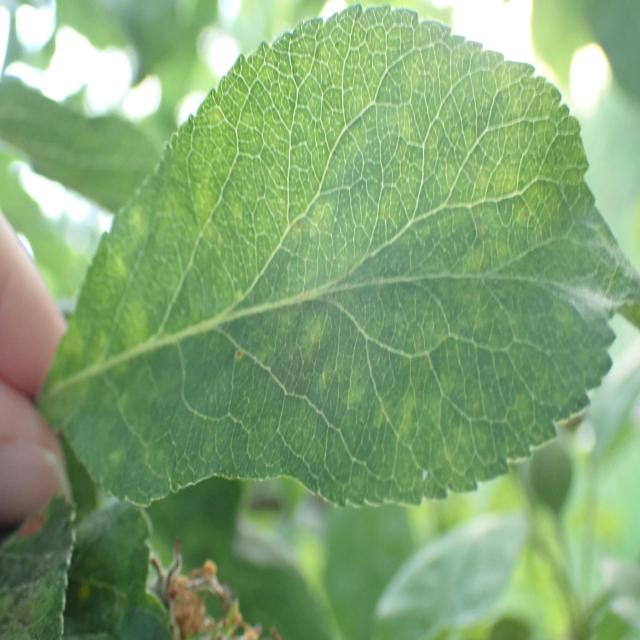scab: (75, 189, 572, 467)
